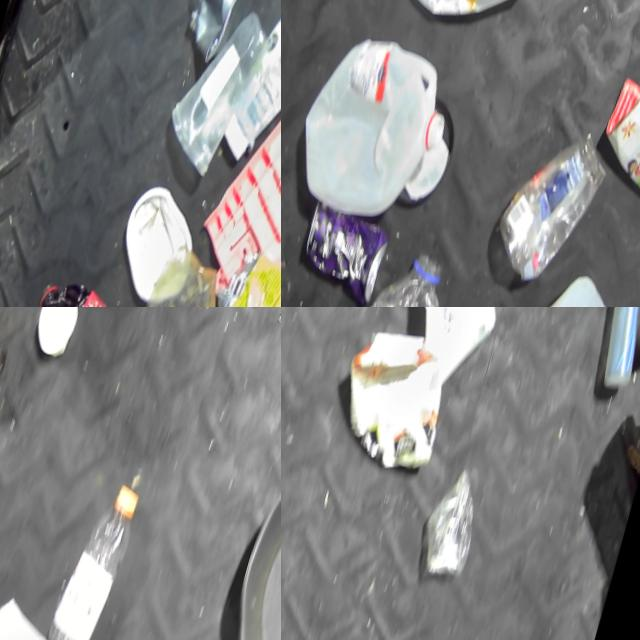can: (183, 0, 257, 64)
milk_jug: (286, 22, 460, 231), (327, 313, 460, 473), (506, 254, 638, 307)
plastic_bottle: (40, 464, 144, 640), (346, 234, 457, 307), (174, 0, 277, 45)
